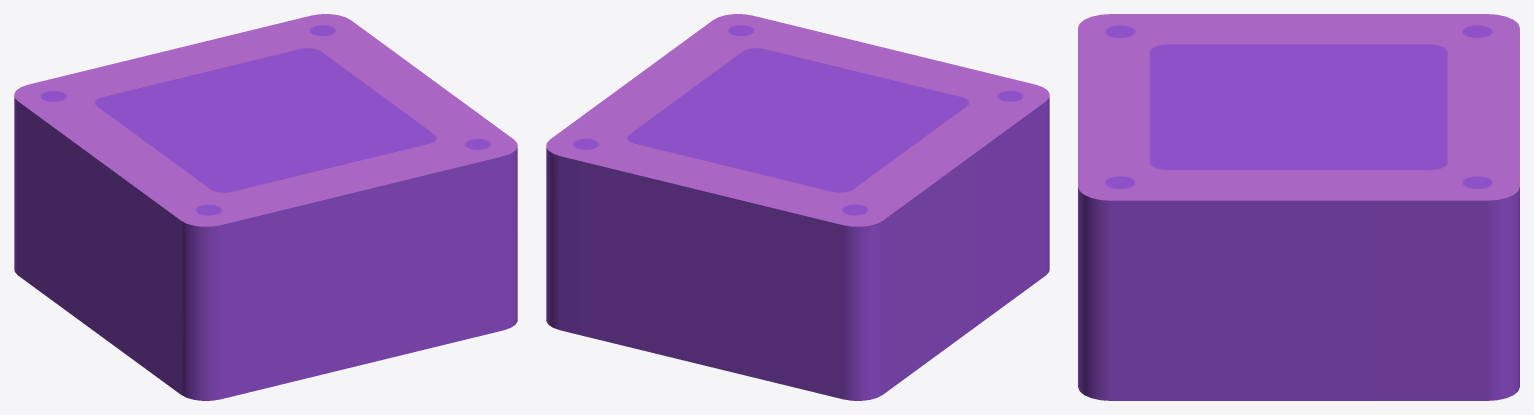
File: meshEndPlatform.fbx
3 views of the same model, side by side, from view 1: azimuth 30°, elevation 25°; view 2: azimuth 150°, elevation 25°; view 3: azimuth 270°, elevation 25° (orthographic). The views are drawn at different scales.
Visible parts, largest first — view 1: meshEndPlatform; view 2: meshEndPlatform; view 3: meshEndPlatform.
Part boxes in pixels (x1,y1,x2,y2): meshEndPlatform: (14,14,517,400); meshEndPlatform: (546,14,1049,400); meshEndPlatform: (1078,14,1519,400).
Bounding box in the file's own units: 8 × 4 × 8.
Materials: 1 (1 with a texture image).
